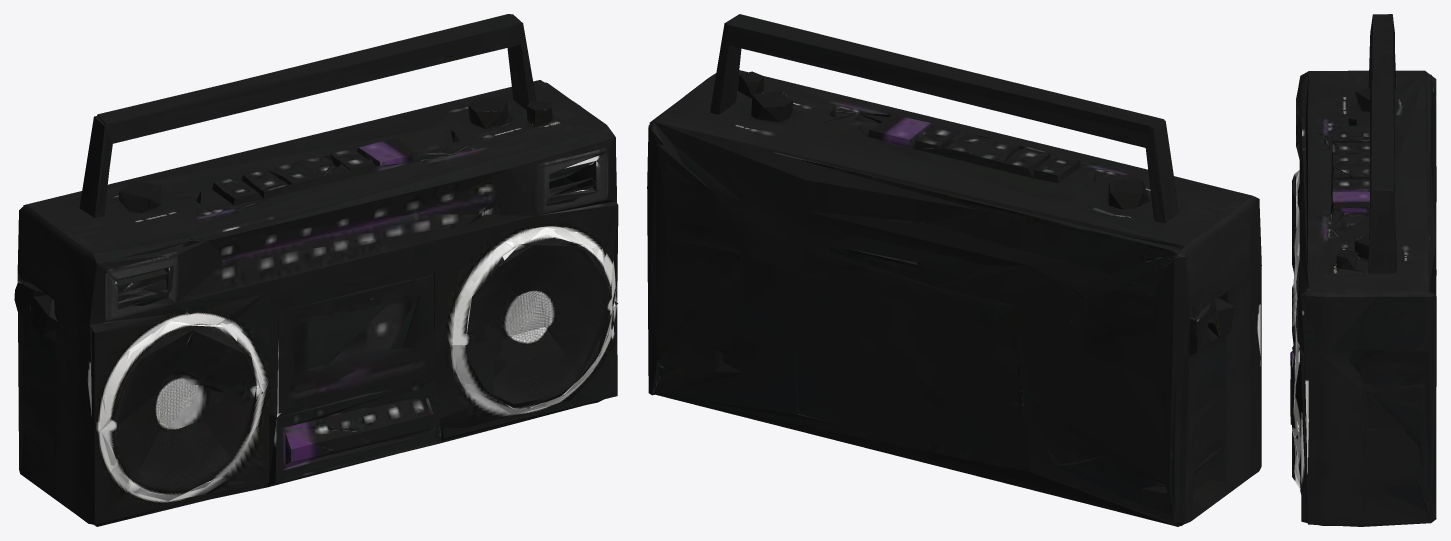
File: boombox.glb
The picture shows the model from 3 angles, left to right: view 1: azimuth 30°, elevation 25°; view 2: azimuth 150°, elevation 25°; view 3: azimuth 270°, elevation 25°; orthographic projection. The views are drawn at different scales.
Visible parts, largest first — view 1: output_unwrapped; view 2: output_unwrapped; view 3: output_unwrapped.
Boxes of the visible parts, box(x1,y1,x2,y2) form: output_unwrapped: box(14, 14, 618, 526); output_unwrapped: box(647, 14, 1261, 526); output_unwrapped: box(1290, 14, 1436, 526).
Bounding box in the file's own units: 1.88 × 1.23 × 0.5111.
1 material, 1 textured.
